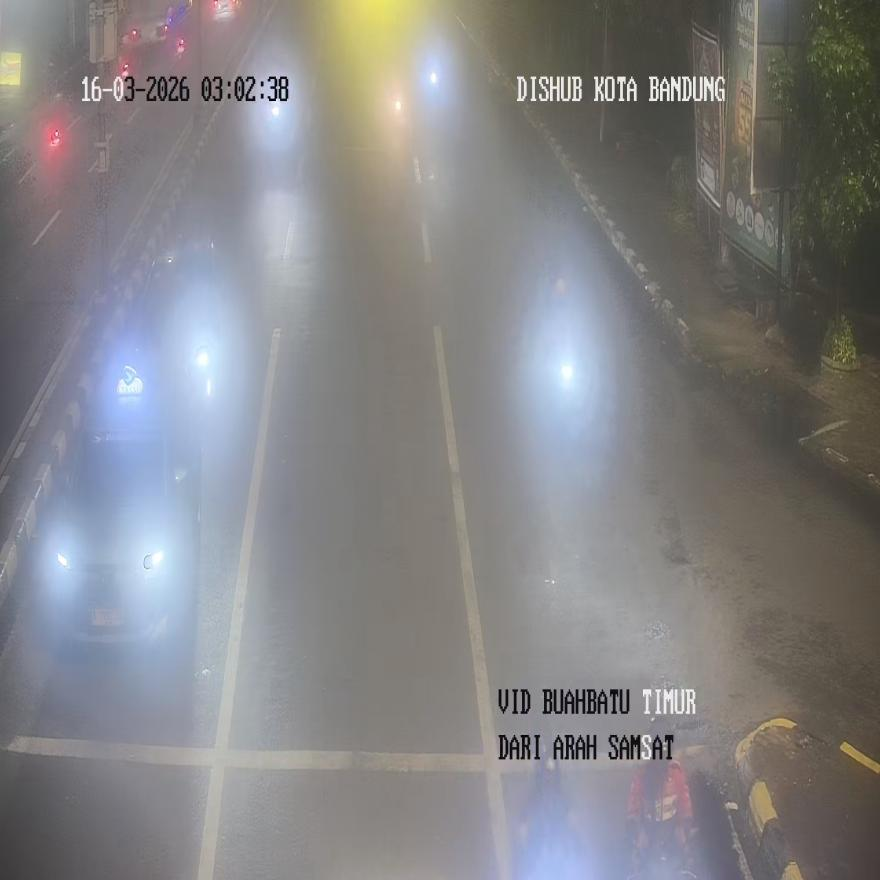Motor: (41, 343, 201, 658)
